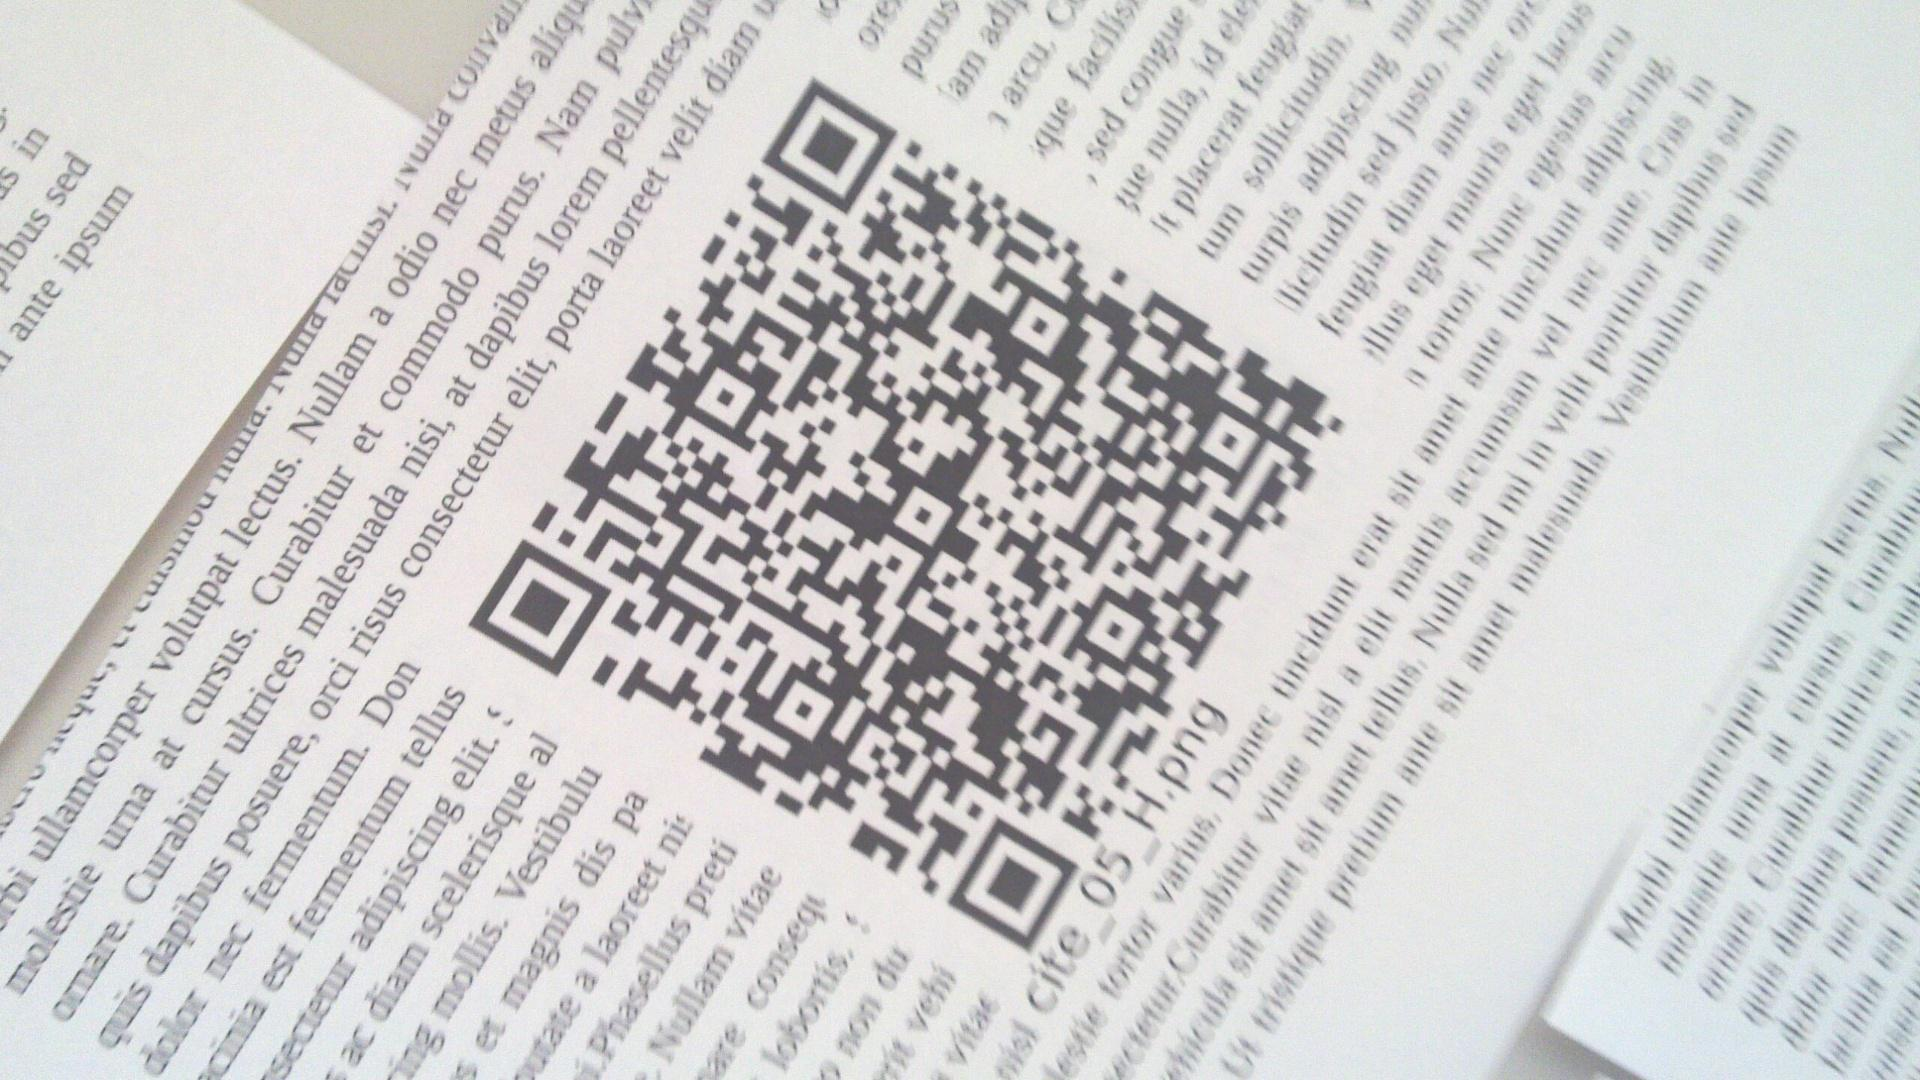Finder pattern: (467, 545, 611, 680), (758, 76, 895, 214), (949, 814, 1077, 951)
